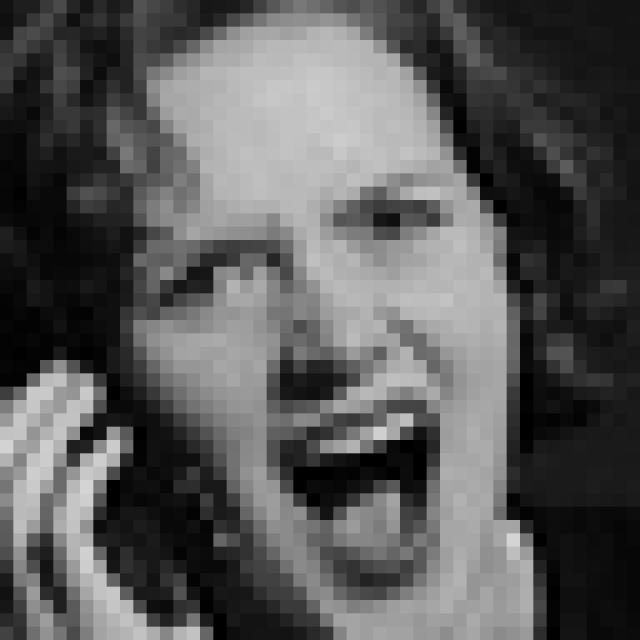angry: (148, 159, 470, 595)
